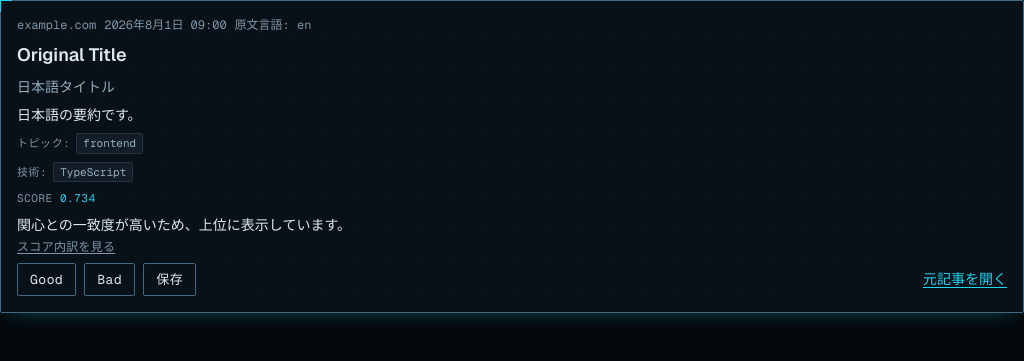
Test: ArticleCard › keeps the score breakdown collapsed by default and reveals it on demand
Expected: the text "関心との一致度が高いため、上位に表示しています。" is shown, [17, 216, 351, 234]
Expected: the text "0.800" is not shown
Step 1. Click the button "スコア内訳を見る" → (66, 246), box [17, 238, 115, 254]
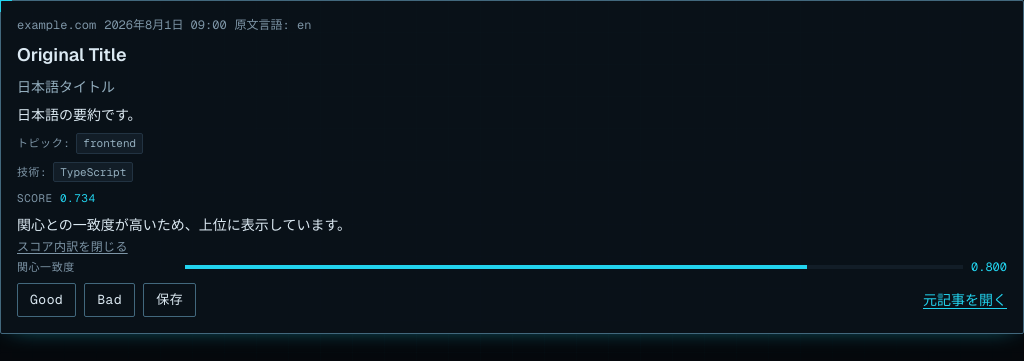
Expected: the text "0.800" is shown, [971, 259, 1007, 275]
